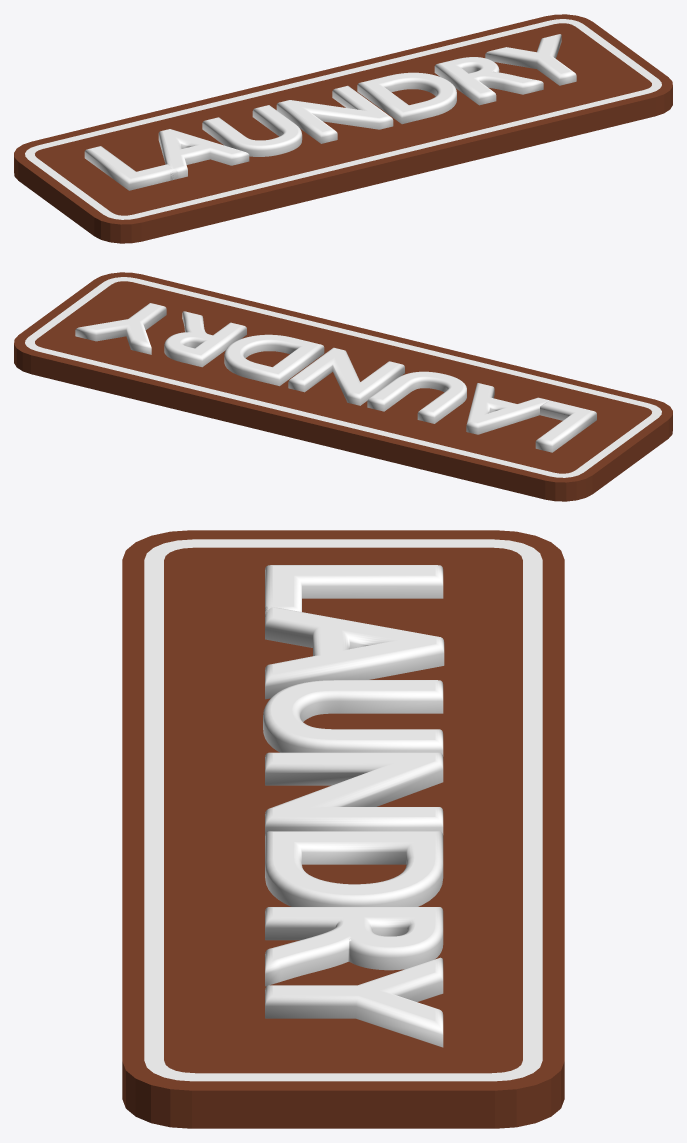
File: LaundrySign.glb
3 renders of one model, top to bottom at view 1: azimuth 30°, elevation 25°; view 2: azimuth 150°, elevation 25°; view 3: azimuth 270°, elevation 25°, orthographic. The views are drawn at different scales.
Visible parts, largest first — view 1: Office Sign; view 2: Office Sign; view 3: Office Sign.
Part boxes in pixels (x1,y1,x2,y2): Office Sign: (14,14,672,243); Office Sign: (14,272,672,501); Office Sign: (122,530,564,1128).
Size of the model in its own units: 0.4572 by 0.022 by 0.1524.
